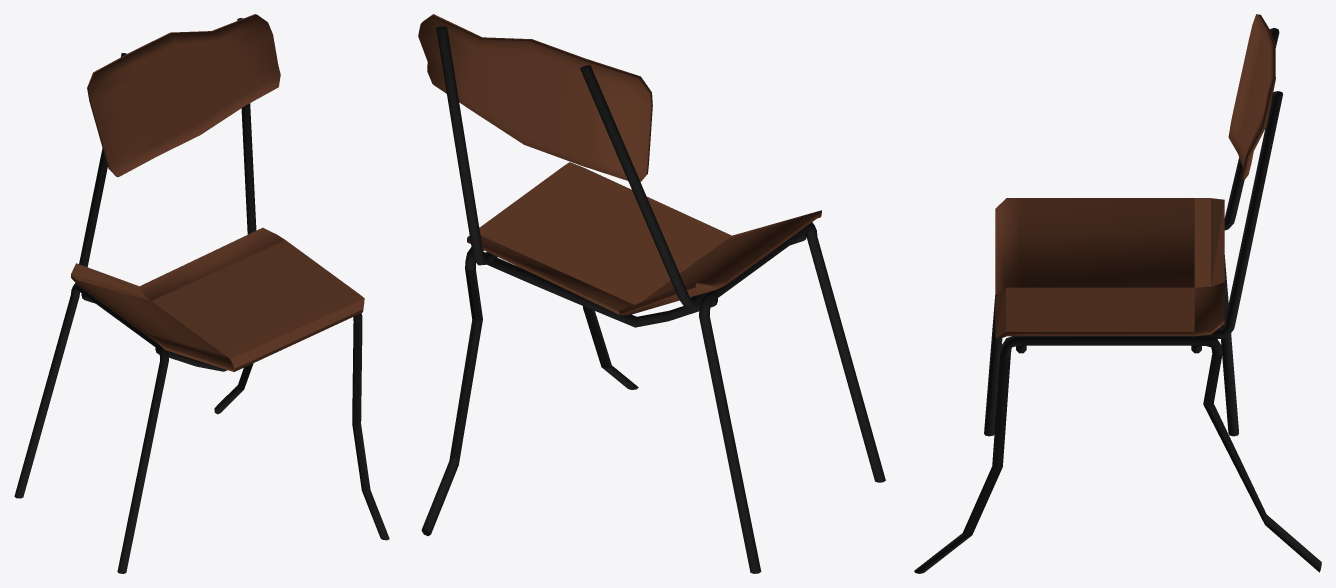
Rendered from FBX_ChaiseTordu.fbx.
3 renders of one model, left to right at view 1: azimuth 30°, elevation 25°; view 2: azimuth 150°, elevation 25°; view 3: azimuth 270°, elevation 25°, orthographic. The views are drawn at different scales.
Parts seen in each view (by area): view 1: ChiaseTordu; view 2: ChiaseTordu; view 3: ChiaseTordu.
Boxes of the visible parts, x1=… form: ChiaseTordu: x1=14, y1=14, x2=389, y2=573; ChiaseTordu: x1=418, y1=14, x2=885, y2=573; ChiaseTordu: x1=914, y1=14, x2=1321, y2=573.
Size of the model in its own units: 0.9434 by 1.38 by 1.04.
